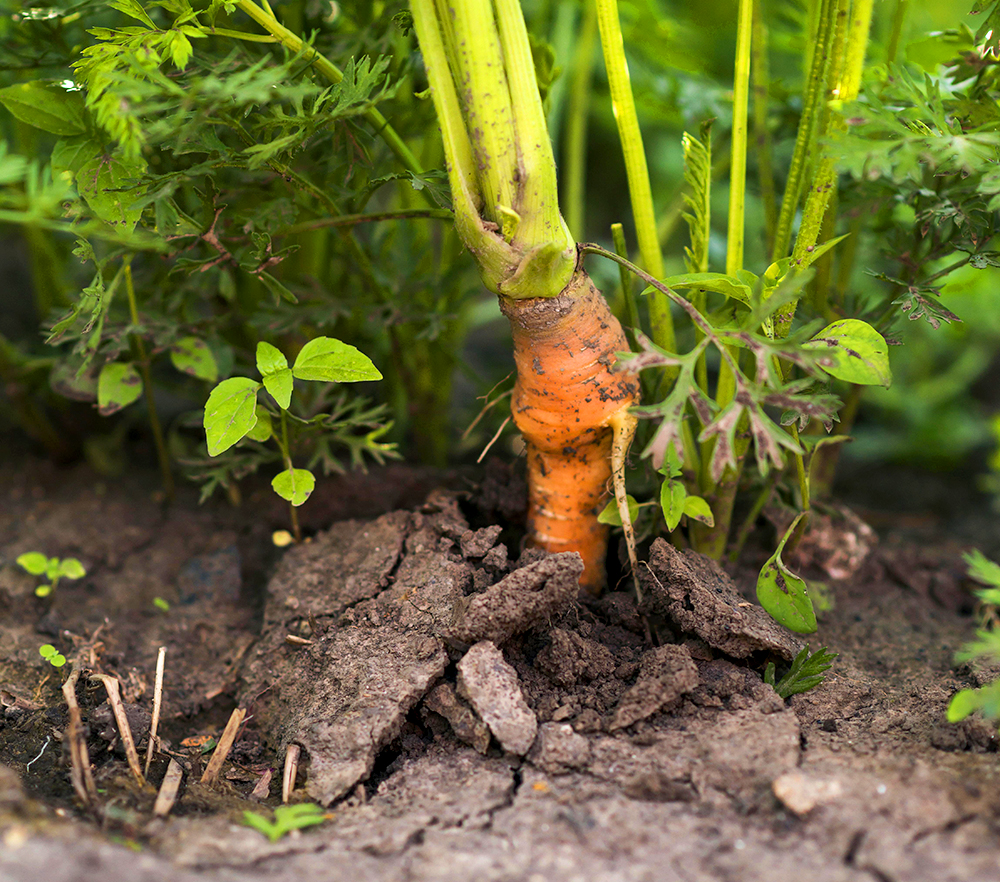carrot: (438, 174, 695, 662)
